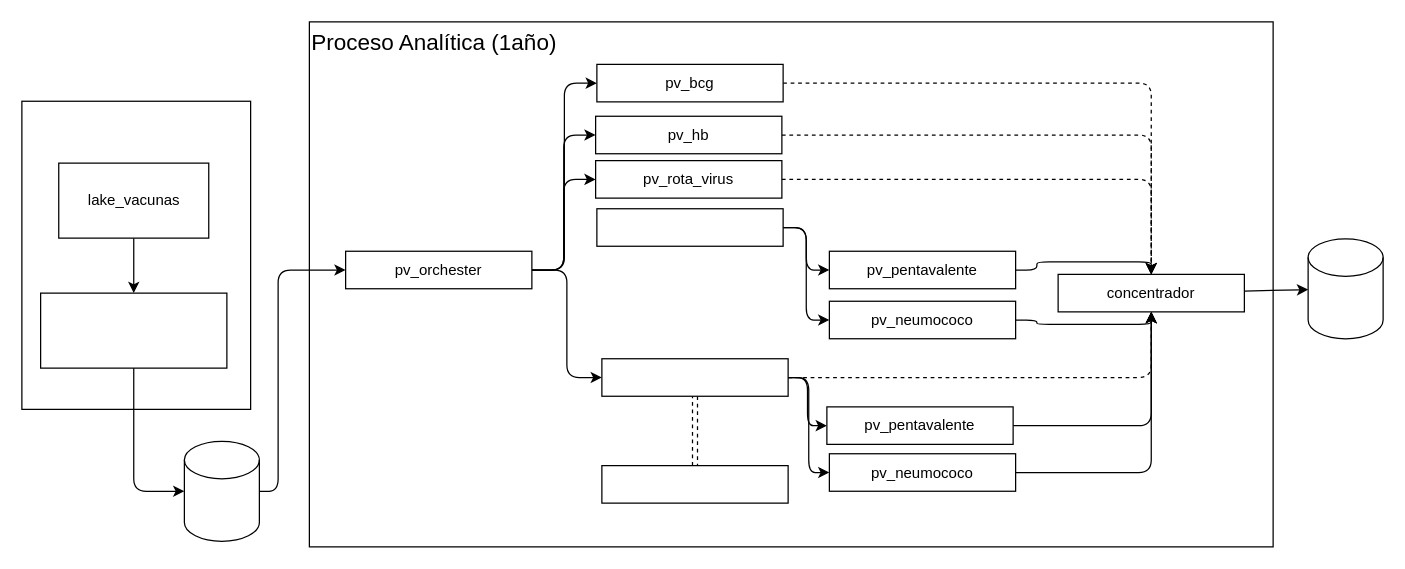
Image size: 1405x569. Some labels were removed from this diagram. Each missing label, with the box of its shape:
duckdb: (183, 440, 259, 541)
lake_vacunas_historia: (39, 292, 227, 368)
oracle: (1307, 238, 1383, 339)
otras vacunas: (601, 464, 788, 503)
pv_bOPV: (601, 358, 788, 396)
pv_fipv: (596, 208, 783, 246)
